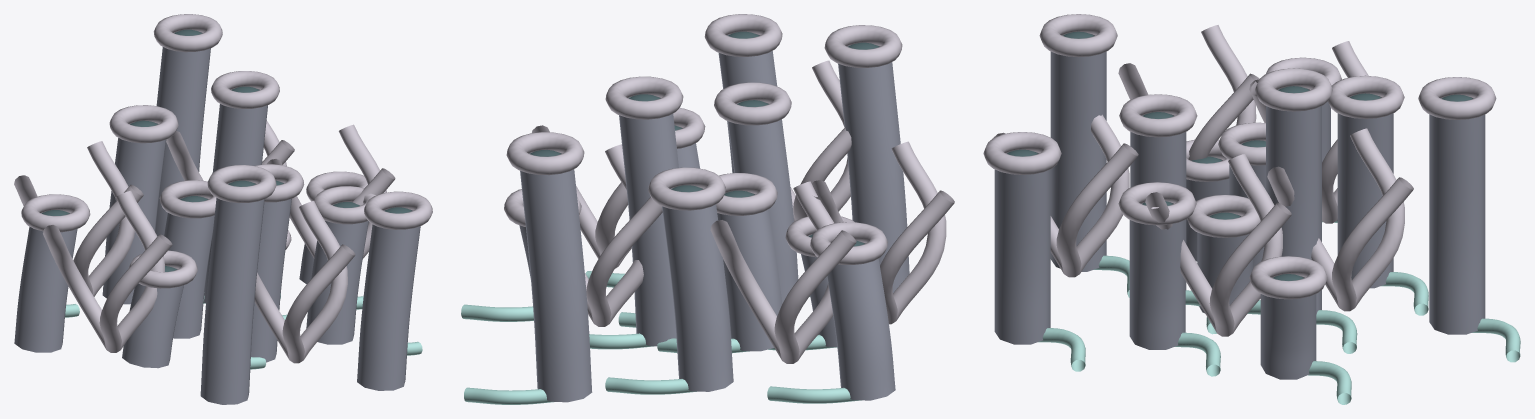
The model's file is bio_thermal_colony_14_near.glb.
The picture shows the model from 3 angles, left to right: view 1: azimuth 30°, elevation 25°; view 2: azimuth 150°, elevation 25°; view 3: azimuth 270°, elevation 25°; orthographic projection. The views are drawn at different scales.
Visible parts, largest first — view 1: Chimney biofilm.007, Chimney biofilm.010, Spiral filament.012, Spiral filament.006, Chimney biofilm.009, Chimney biofilm.011, Spiral filament.003, Chimney biofilm.006, Chimney biofilm.002, Chimney biofilm.001, Chimney biofilm.005, Chimney biofilm.004 (+15 smaller); view 2: Chimney biofilm.011, Chimney biofilm.006, Chimney biofilm.007, Chimney biofilm.003, Spiral filament.003, Chimney biofilm.009, Spiral filament.012, Chimney biofilm.002, Chimney biofilm.001, Spiral filament.009, Spiral filament.006, Open vent rim.006 (+19 smaller); view 3: Chimney biofilm.011, Chimney biofilm.010, Chimney biofilm.007, Spiral filament.009, Spiral filament, Chimney biofilm.005, Chimney biofilm.003, Spiral filament.006, Chimney biofilm.006, Chimney biofilm.008, Spiral filament.012, Chimney biofilm.002 (+23 smaller).
Boxes of the visible parts, x1,y1,x2,y2 form: Chimney biofilm.007: (200, 183, 264, 404); Chimney biofilm.010: (357, 209, 420, 390); Spiral filament.012: (43, 190, 172, 352); Spiral filament.006: (254, 201, 355, 363); Chimney biofilm.009: (14, 212, 77, 352); Chimney biofilm.011: (155, 32, 210, 235); Spiral filament.003: (14, 141, 143, 296); Chimney biofilm.006: (102, 123, 166, 304); Chimney biofilm.002: (251, 182, 291, 362); Chimney biofilm.001: (164, 198, 214, 338); Chimney biofilm.005: (306, 204, 368, 344); Chimney biofilm.004: (122, 268, 183, 368); Chimney biofilm.011: (520, 152, 592, 402); Chimney biofilm.006: (662, 188, 733, 391); Chimney biofilm.007: (838, 45, 909, 292); Chimney biofilm.003: (619, 96, 678, 346); Spiral filament.003: (710, 181, 856, 363); Chimney biofilm.009: (827, 242, 895, 400); Spiral filament.012: (812, 141, 954, 324); Chimney biofilm.002: (727, 102, 798, 303); Chimney biofilm.001: (717, 193, 782, 351); Spiral filament.009: (585, 144, 662, 326); Spiral filament.006: (790, 60, 851, 221); Open vent rim.006: (648, 167, 725, 210); Chimney biofilm.011: (1429, 97, 1485, 334); Chimney biofilm.010: (994, 152, 1050, 344); Chimney biofilm.007: (1050, 34, 1106, 271); Spiral filament.009: (1267, 128, 1413, 311); Spiral filament: (1145, 154, 1291, 336); Chimney biofilm.005: (1129, 203, 1185, 349); Chimney biofilm.003: (1266, 89, 1321, 314); Spiral filament.006: (993, 114, 1138, 277); Chimney biofilm.006: (1337, 96, 1393, 288); Chimney biofilm.008: (1260, 276, 1316, 379); Spiral filament.012: (1118, 25, 1259, 160); Chimney biofilm.002: (1130, 114, 1186, 289).
Size of the model in its own units: 1.75 by 0.9895 by 1.92.
